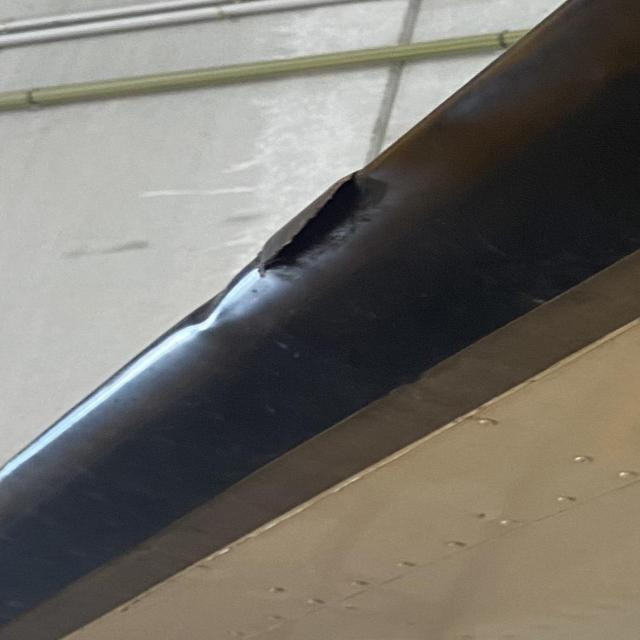Dent: (163, 269, 251, 334)
